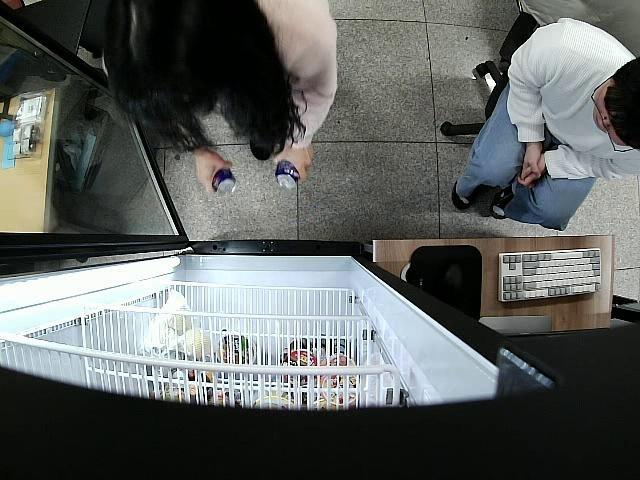14_welchsGrape: (209, 165, 240, 199), (274, 160, 300, 191)
